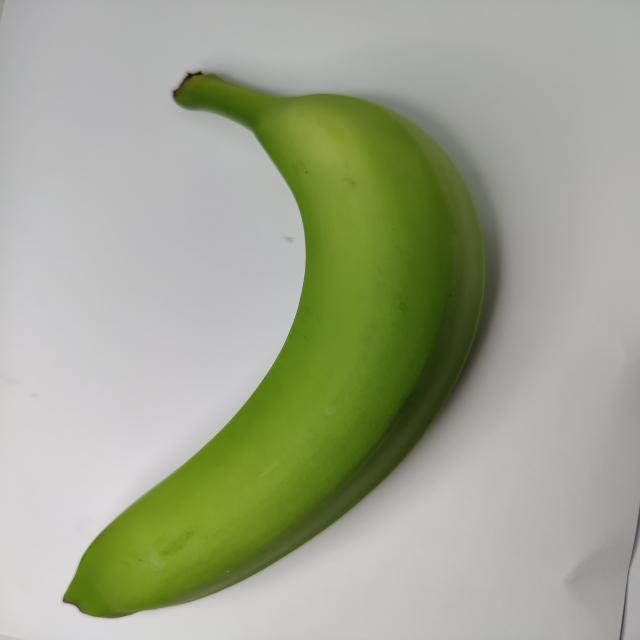raw: (21, 42, 534, 621)
